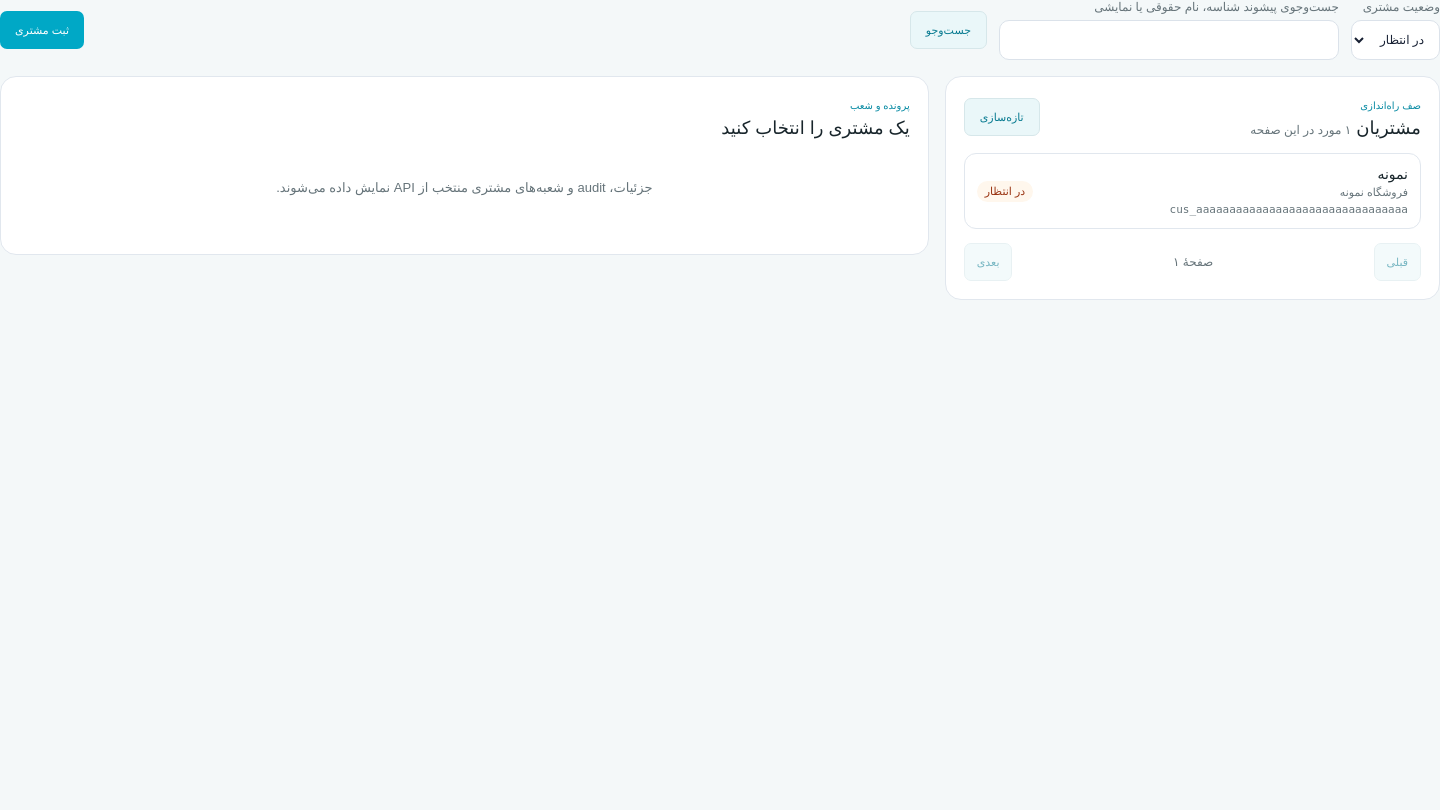
it: OnboardingWorkbench › creates a pending customer with a required reason and sends no credentials
The width and height of the screenshot is (1440, 810).
Click the button "ثبت مشتری" at (42, 30), box [0,11,84,49]
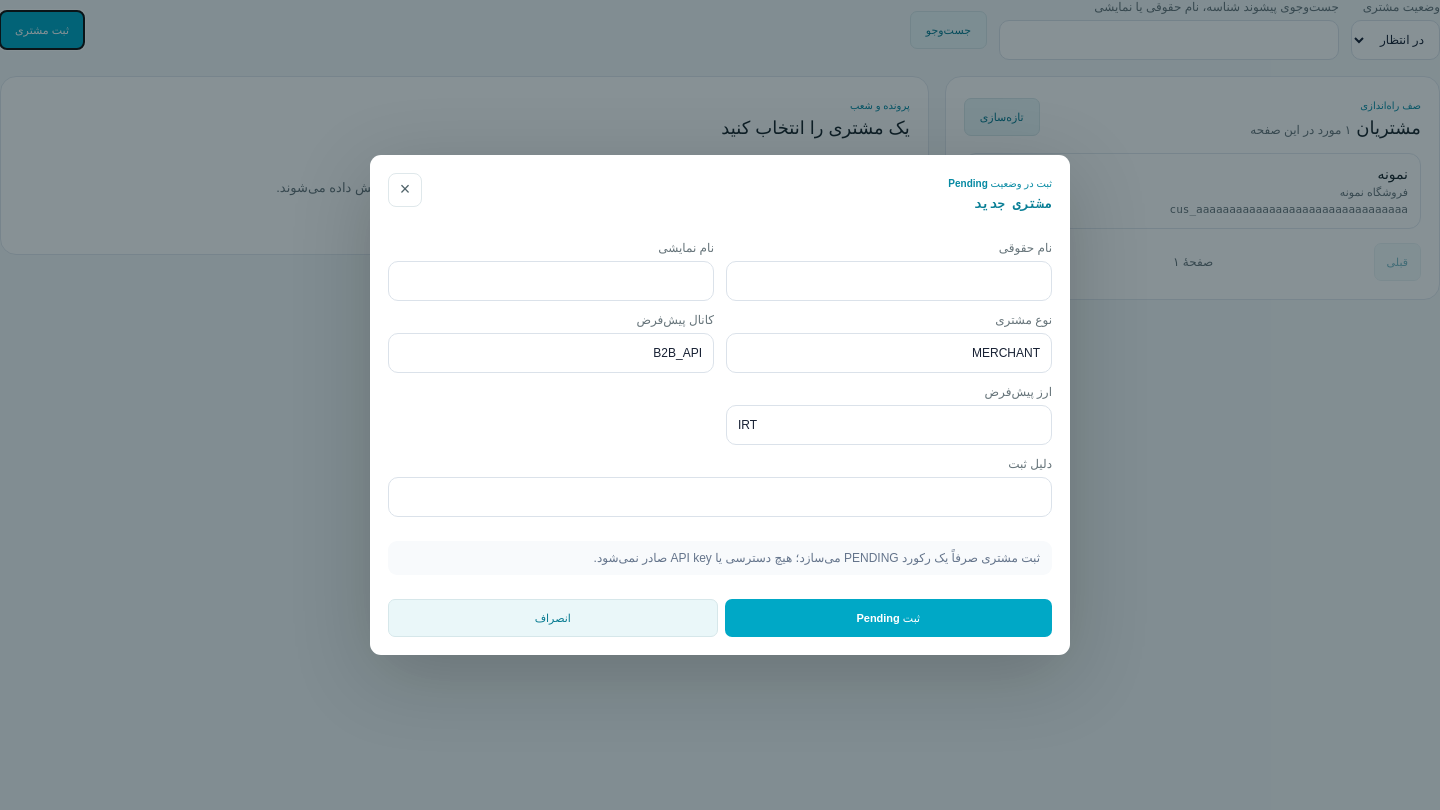
Type "تجارت جدید" into the field labelled "نام حقوقی" at (889, 281), box [726,261,1052,301]
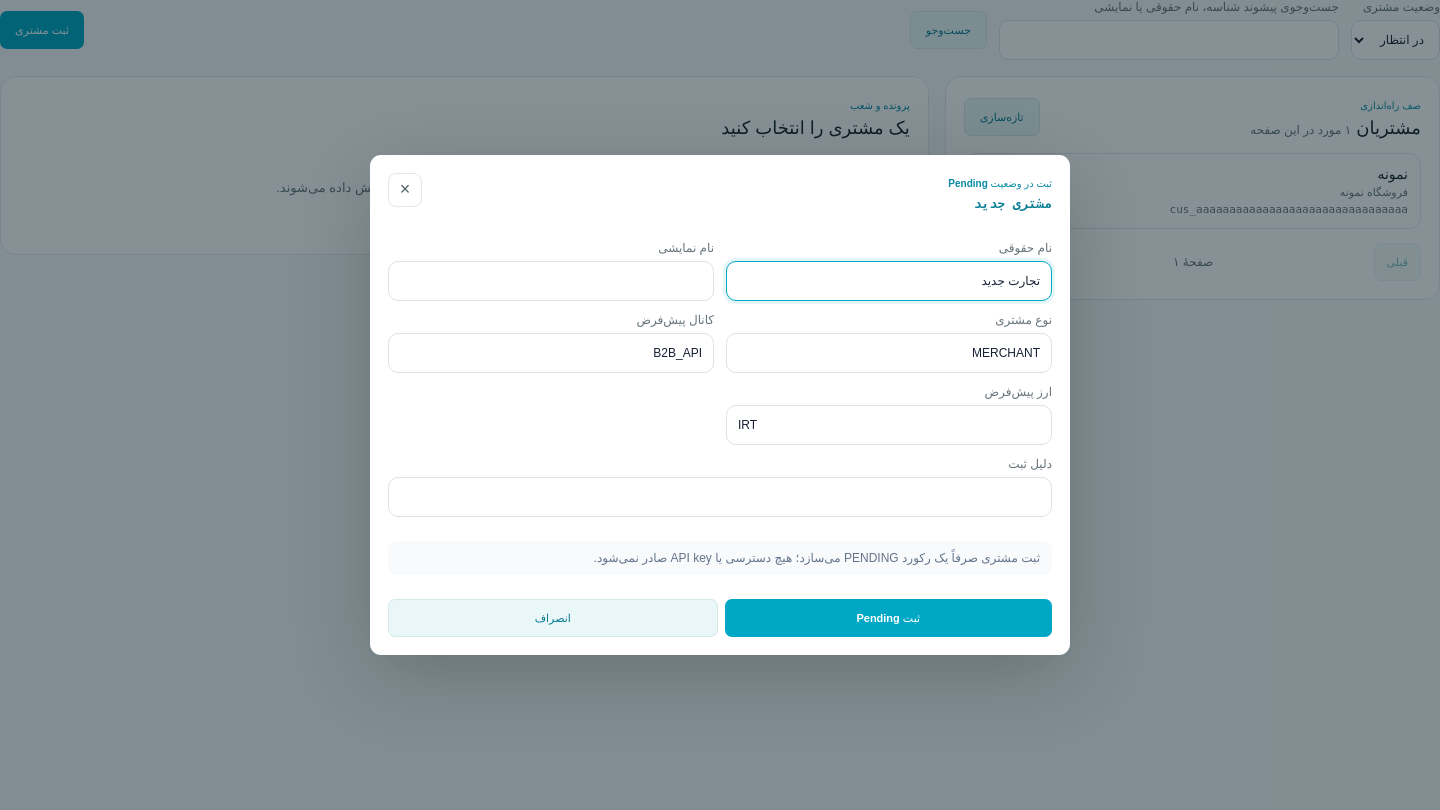
Type "پرونده تأیید شده" into the field labelled "دلیل ثبت" at (720, 497), box [388,477,1052,517]
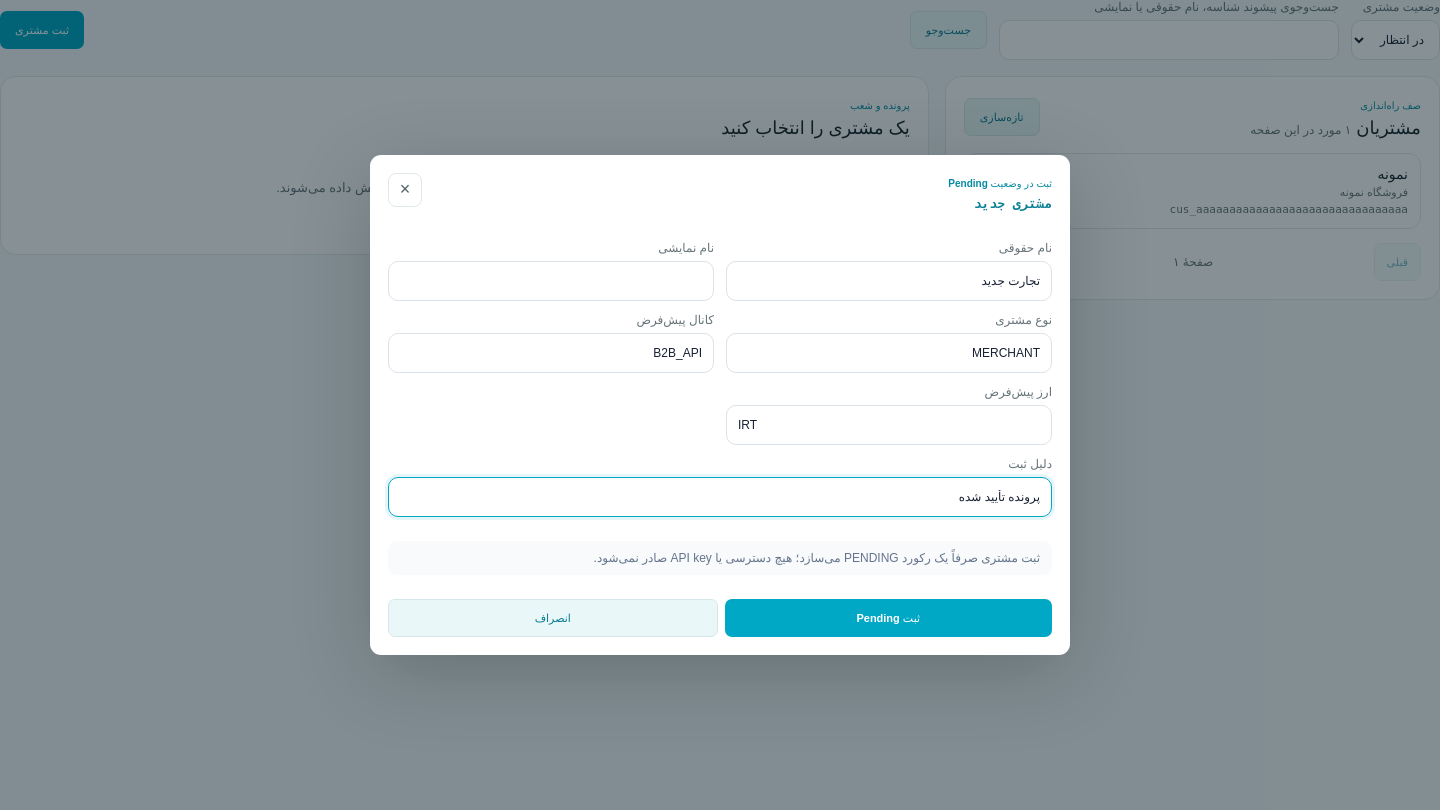
Click the button "ثبت Pending" at (888, 618), box [724,599,1052,637]
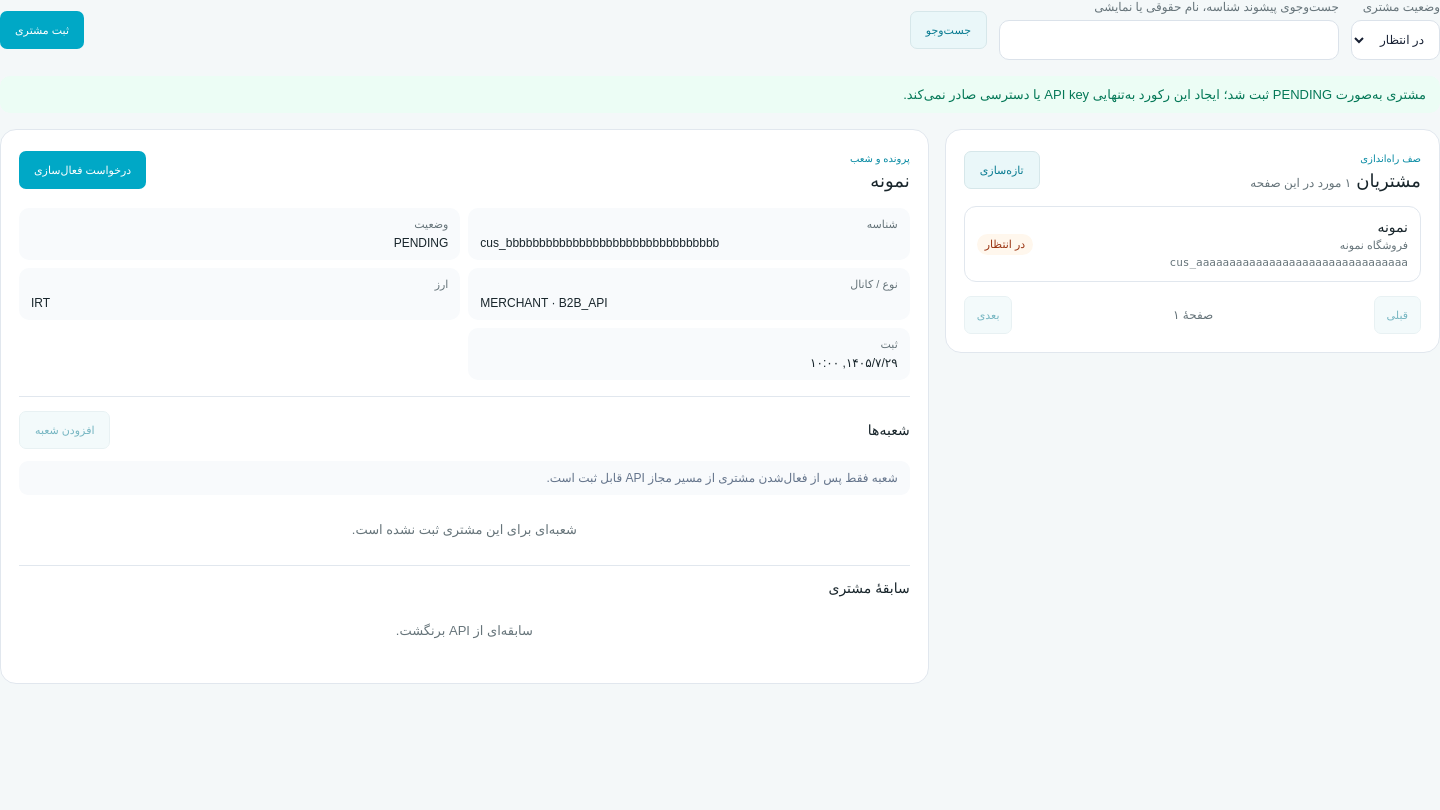
Now the message shows "API key یا دسترسی صادر نمی‌کند", box [903,87,1426,102]
